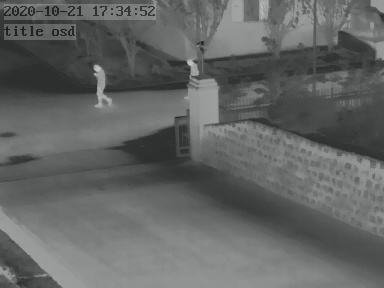person: (95, 61, 113, 107), (184, 56, 198, 79)
